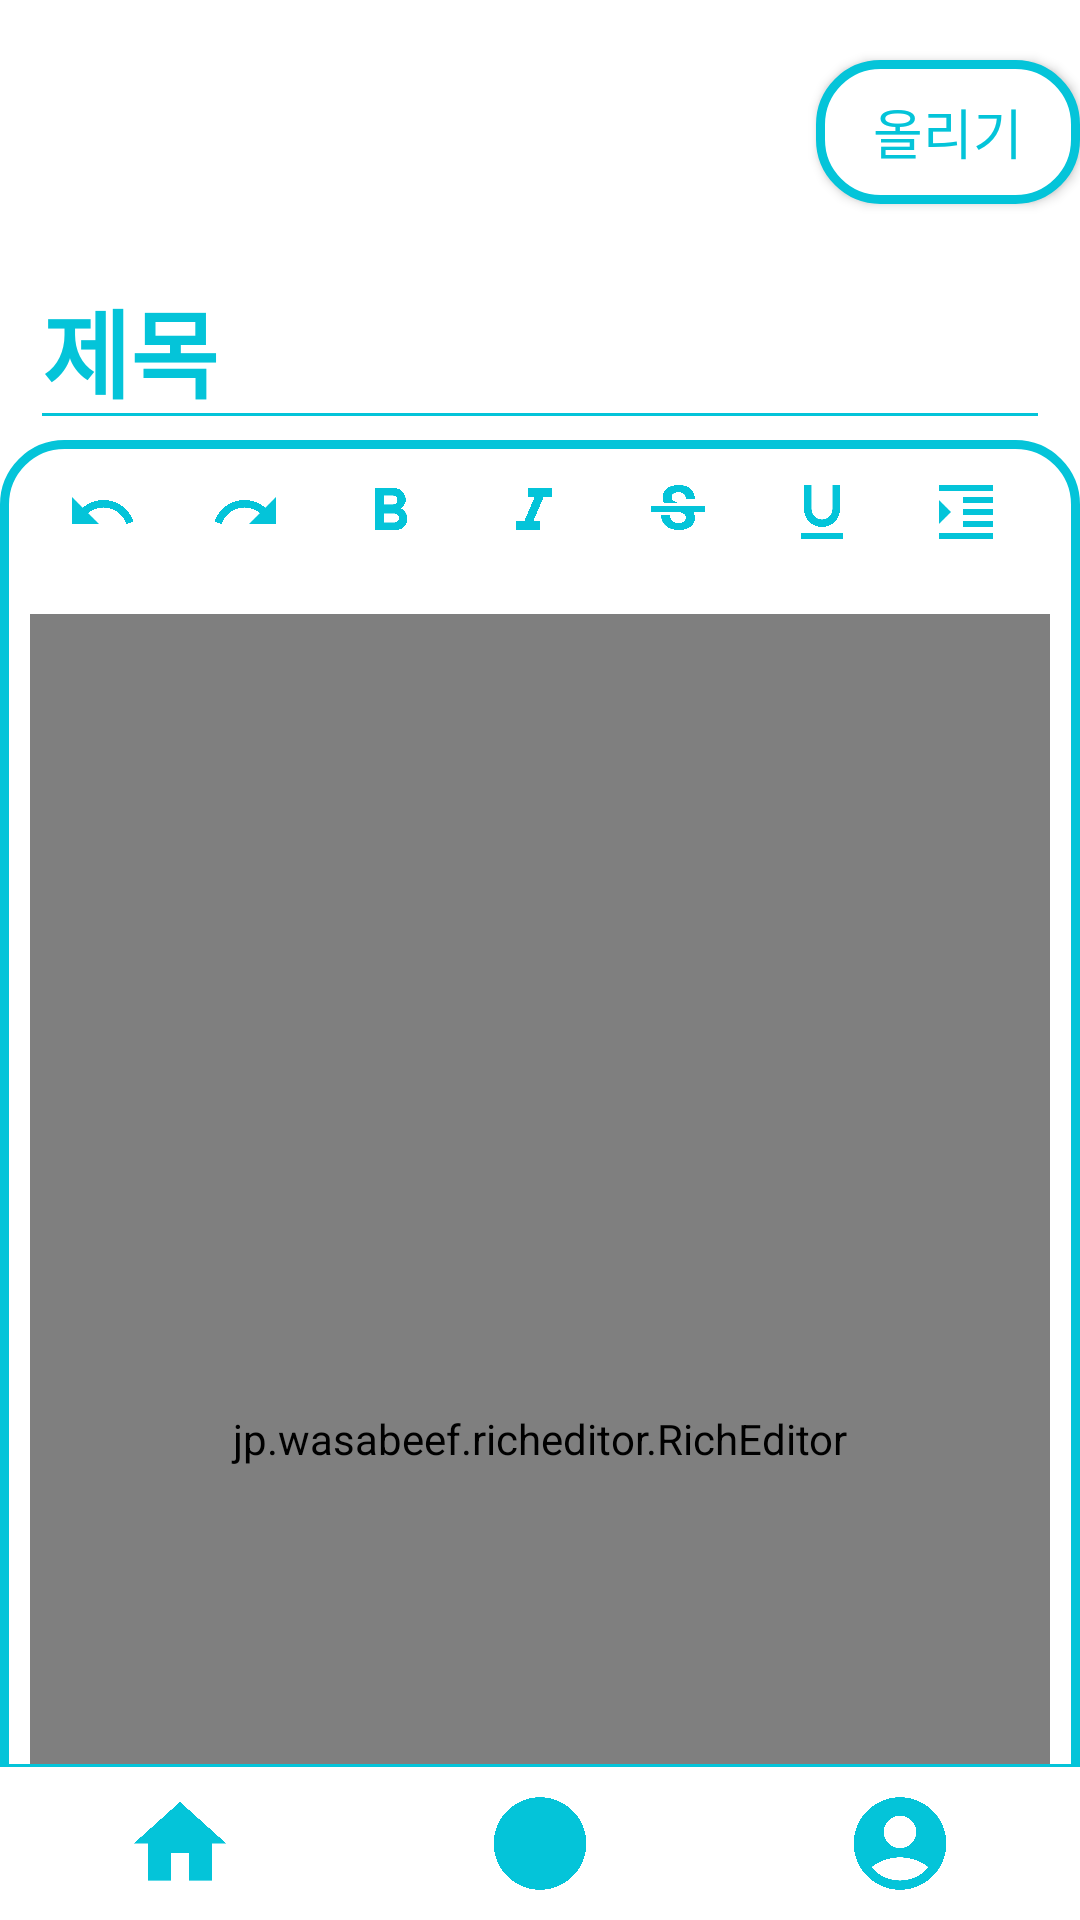

Locate icon controls on the screen. Image size 1080x1920, boxes as (x1, y1, x2, y2).
format indent increase: (939, 485, 993, 539)
